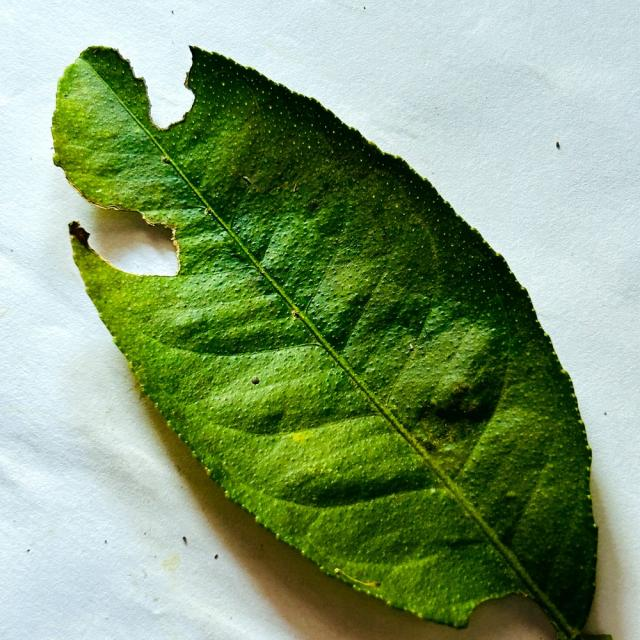Deficiency Leaf: (69, 203, 179, 276), (454, 595, 562, 638), (143, 56, 189, 134)
Lemon: (52, 47, 596, 637)
